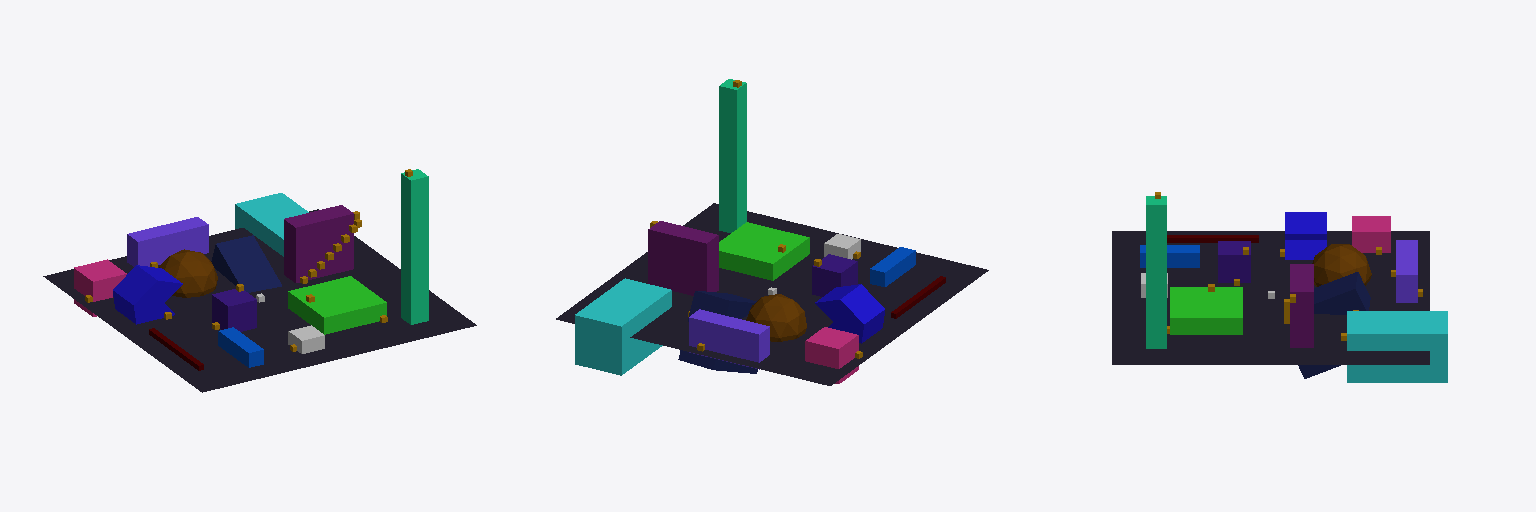
The model's file is map7.obj.
The picture shows the model from 3 angles: view 1: azimuth 30°, elevation 25°; view 2: azimuth 150°, elevation 25°; view 3: azimuth 270°, elevation 25°; orthographic projection.
Parts seen in each view (by area): view 1: Plane, Cube.010, Cube.001, Cube.004, Cube.005, Cube.012, Cube.003, Cube.008, Icosphere, Cube.006, Cube.011, Cube.002 (+2 smaller); view 2: Plane, Cube.008, Cube.001, Cube.010, Cube.004, Cube.012, Cube.005, Cube.003, Icosphere, Cube.011, Cube.006, Cube.002 (+2 smaller); view 3: Plane, Cube.008, Cube.004, Cube.010, Cube.003, Cube.001, Cube.005, Icosphere, Cube.012, Cube.011, Cube.006, Cube.002 (+1 smaller).
Part boxes in pixels (bbox=[...]): Plane: bbox=[43, 209, 476, 392]; Cube.010: bbox=[401, 169, 428, 324]; Cube.001: bbox=[284, 205, 353, 282]; Cube.004: bbox=[288, 276, 386, 334]; Cube.005: bbox=[113, 265, 182, 324]; Cube.012: bbox=[127, 217, 208, 266]; Cube.003: bbox=[211, 235, 281, 292]; Cube.008: bbox=[235, 193, 308, 256]; Icosphere: bbox=[159, 249, 217, 297]; Cube.006: bbox=[212, 289, 256, 331]; Cube.011: bbox=[74, 259, 126, 316]; Cube.002: bbox=[218, 327, 263, 367]; Plane: bbox=[556, 203, 988, 385]; Cube.008: bbox=[575, 278, 671, 375]; Cube.001: bbox=[648, 221, 718, 295]; Cube.010: bbox=[719, 79, 746, 232]; Cube.004: bbox=[719, 222, 809, 280]; Cube.012: bbox=[689, 309, 769, 369]; Cube.005: bbox=[815, 284, 884, 343]; Cube.003: bbox=[678, 291, 757, 373]; Icosphere: bbox=[746, 294, 806, 341]; Cube.011: bbox=[805, 327, 858, 383]; Cube.006: bbox=[812, 254, 857, 296]; Cube.002: bbox=[870, 247, 915, 286]; Plane: bbox=[1112, 231, 1429, 364]; Cube.008: bbox=[1347, 311, 1447, 382]; Cube.004: bbox=[1170, 287, 1242, 334]; Cube.010: bbox=[1146, 196, 1166, 348]; Cube.003: bbox=[1298, 272, 1370, 378]; Cube.001: bbox=[1290, 264, 1313, 347]; Cube.005: bbox=[1285, 212, 1326, 259]; Icosphere: bbox=[1312, 244, 1371, 286]; Cube.012: bbox=[1396, 240, 1417, 302]; Cube.011: bbox=[1352, 216, 1390, 252]; Cube.006: bbox=[1218, 241, 1250, 282]; Cube.002: bbox=[1140, 245, 1199, 267].
Size of the model in its own units: 100 by 74.64 by 105.